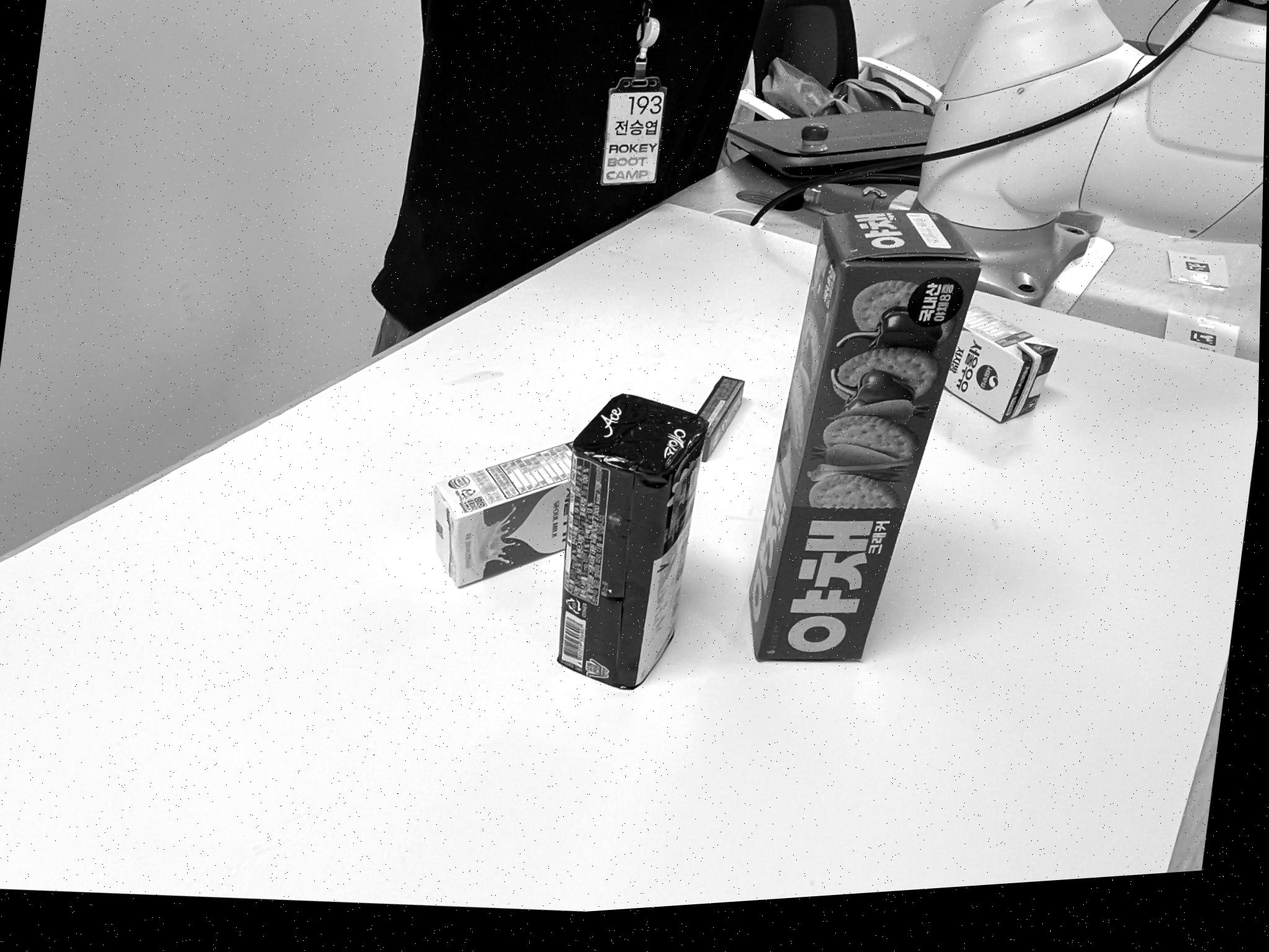cracker_ace: (558, 394, 706, 688)
cracker_vege: (749, 208, 979, 661)
gum_green: (698, 376, 744, 461)
milk_blue: (947, 305, 1057, 422)
milk_green: (433, 444, 570, 586)
